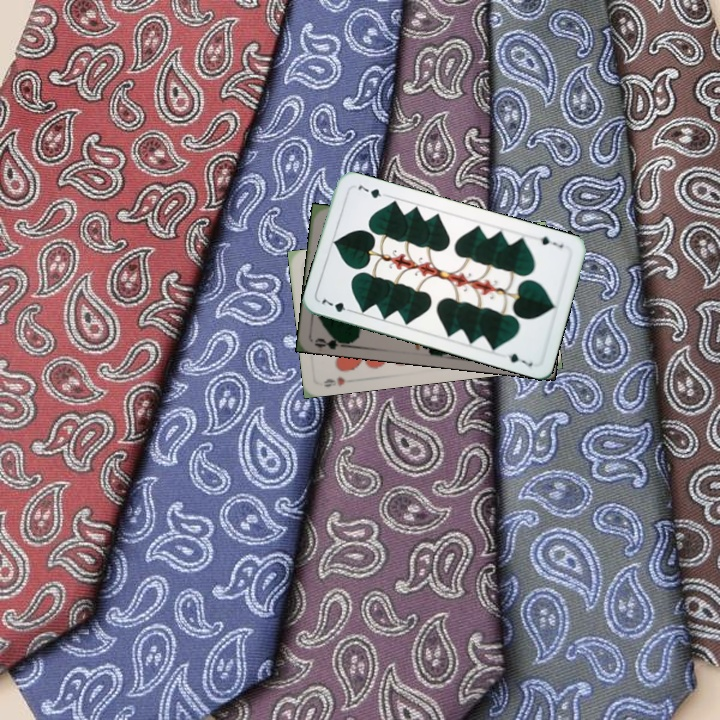G7: (318, 294, 356, 315), (536, 232, 566, 250)
GO: (312, 330, 353, 351)
H9: (320, 373, 347, 389)
